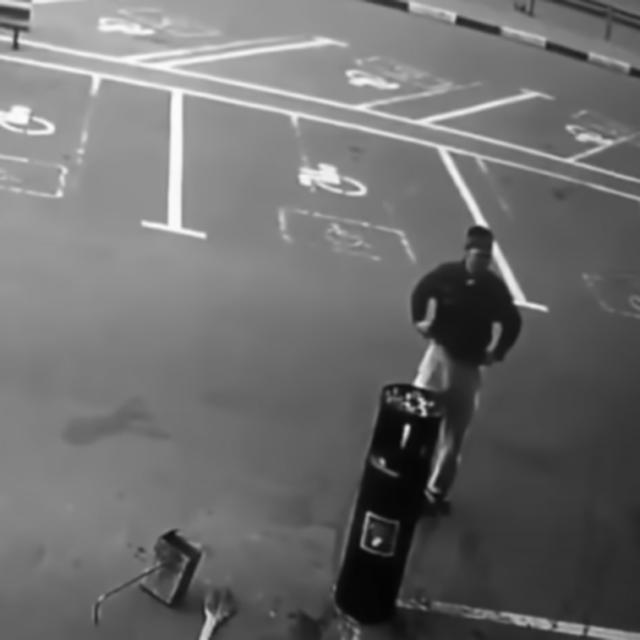Invader: (408, 223, 522, 510)
